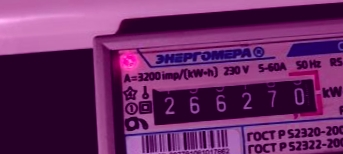0: (290, 87, 304, 108)
2: (159, 97, 175, 118), (237, 91, 252, 112)
6: (185, 95, 199, 117), (212, 94, 226, 115)
7: (263, 90, 276, 110)
screen: (140, 68, 327, 134)
